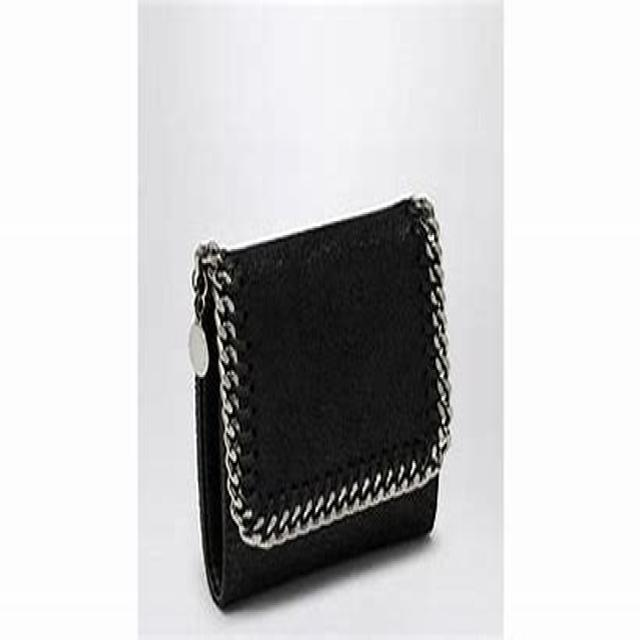wallet: (192, 200, 457, 604)
